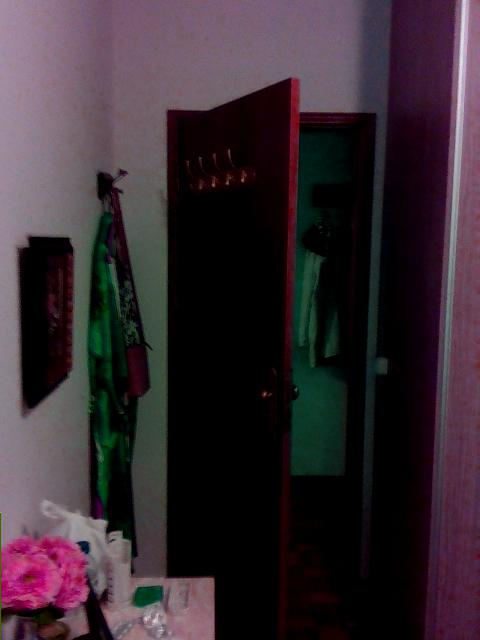semi_door: (167, 73, 377, 639)
